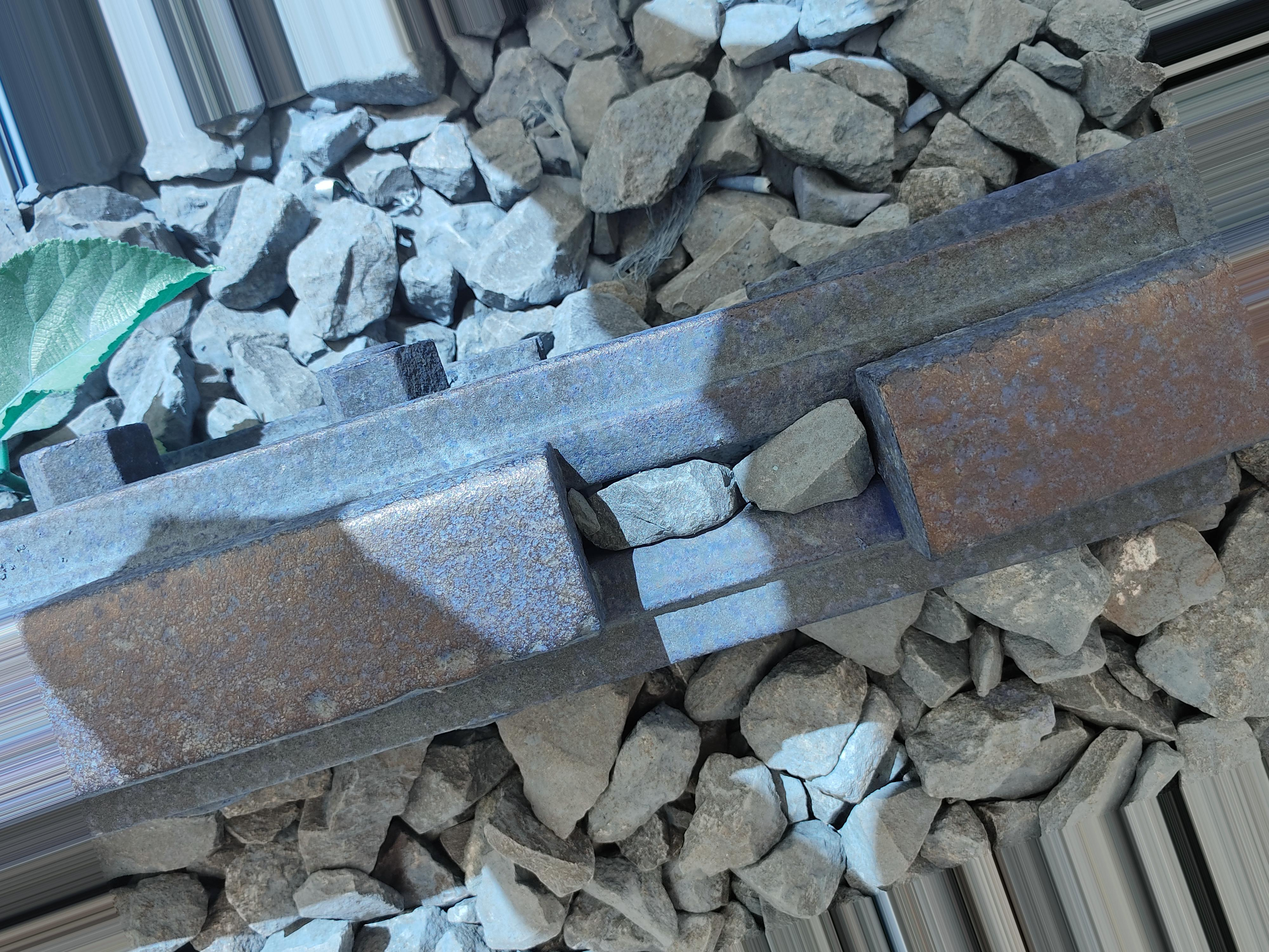tracks_fault: (498, 308, 1036, 811)
